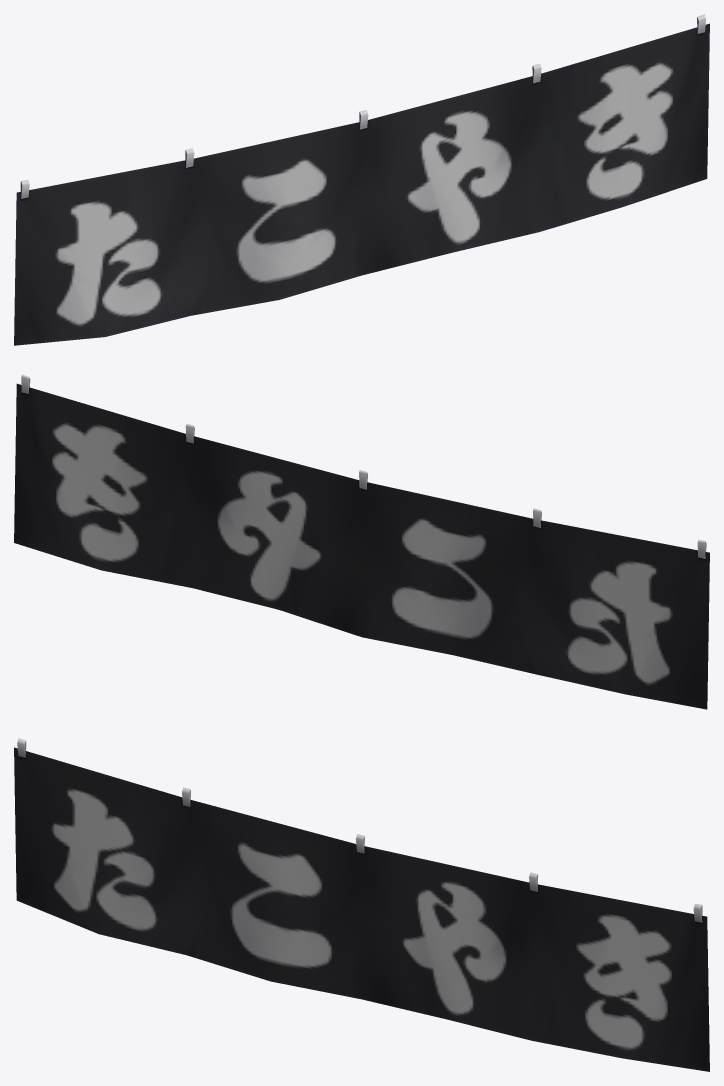
The model's file is jsf_Flyer_Takoyaki_14.fbx.
3 views of the same model, one above another, from view 1: azimuth 30°, elevation 25°; view 2: azimuth 150°, elevation 25°; view 3: azimuth 330°, elevation 25° (orthographic).
Visible parts, largest first — view 1: jsf_Flyer_Takoyaki_14; view 2: jsf_Flyer_Takoyaki_14; view 3: jsf_Flyer_Takoyaki_14.
Part boxes in pixels (box(x1,y1,x2,y2)): jsf_Flyer_Takoyaki_14: box(14, 14, 709, 345); jsf_Flyer_Takoyaki_14: box(14, 374, 709, 709); jsf_Flyer_Takoyaki_14: box(14, 738, 709, 1071).
Bounding box in the file's own units: 201 × 49.51 × 2.97.
